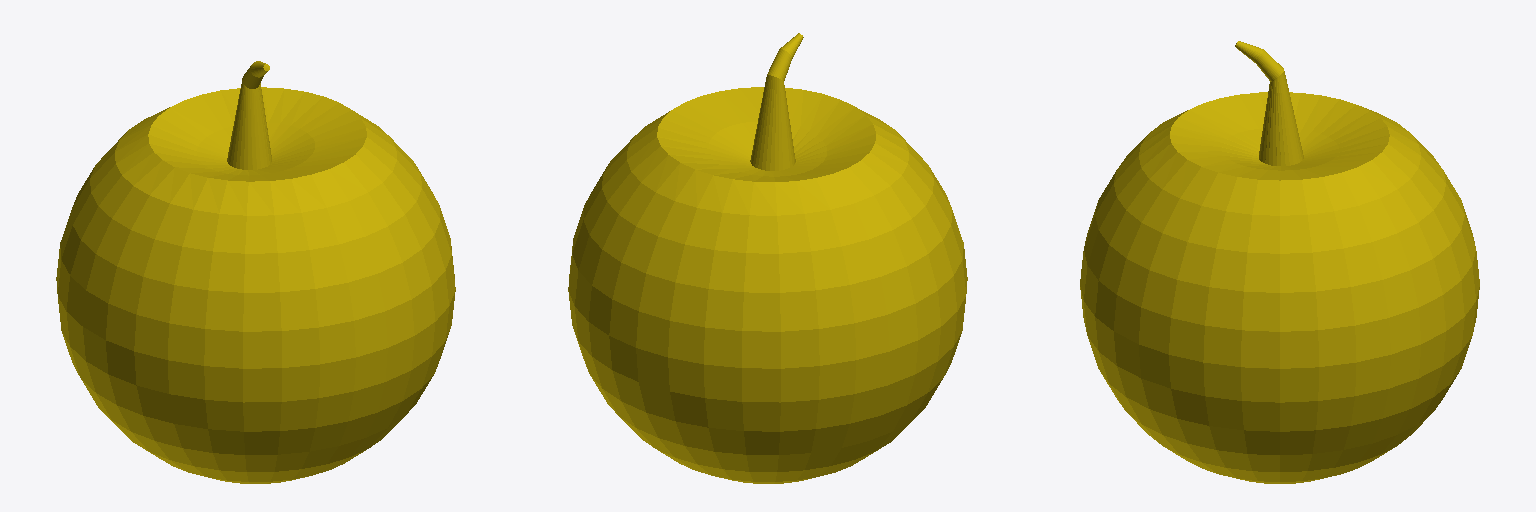
File: food.obj
The picture shows the model from 3 angles: view 1: azimuth 30°, elevation 25°; view 2: azimuth 150°, elevation 25°; view 3: azimuth 270°, elevation 25°; orthographic projection.
Visible parts, largest first — view 1: Sphere; view 2: Sphere; view 3: Sphere.
Part boxes in pixels (left/top/right/bottom): Sphere: left=56, top=61, right=455, bottom=483; Sphere: left=568, top=33, right=967, bottom=483; Sphere: left=1080, top=41, right=1479, bottom=483.
Size of the model in its own units: 2 by 2.31 by 2.